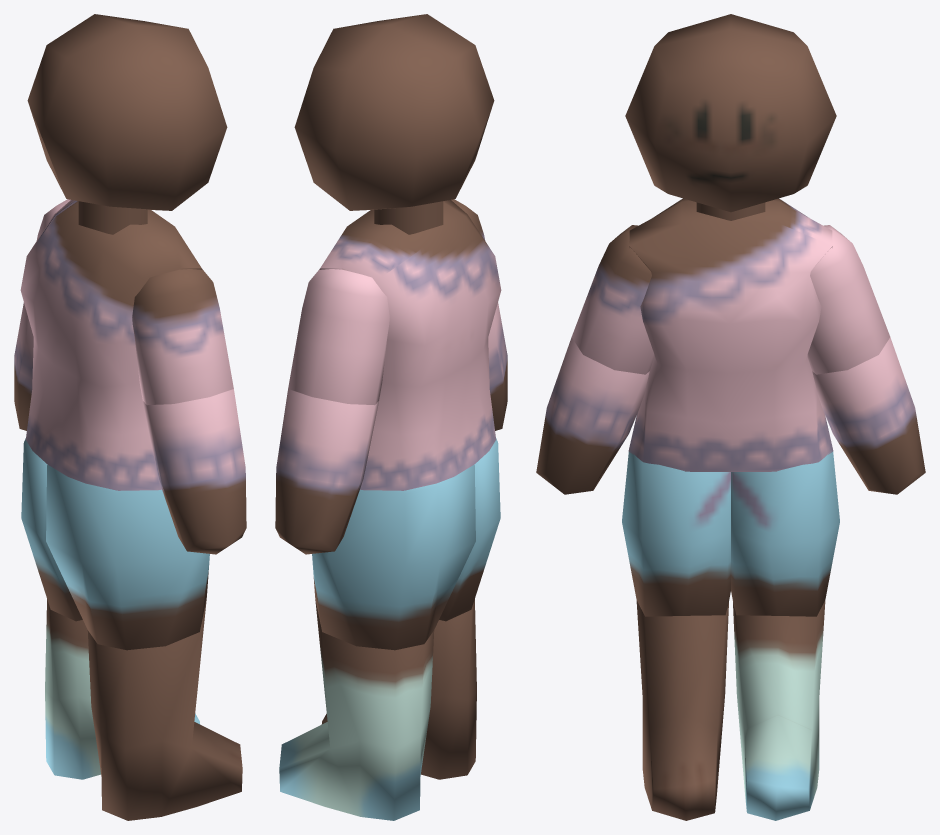
Rendered from TexturePaintingHeadSquashed.fbx.
The picture shows the model from 3 angles, left to right: view 1: azimuth 30°, elevation 25°; view 2: azimuth 150°, elevation 25°; view 3: azimuth 270°, elevation 25°; orthographic projection.
Parts seen in each view (by area): view 1: Head.003, Head.005, Head.008, Head.009, Head.007, Head.006, Head.010, Head.011, Head.001, Head.004; view 2: Head.003, Head.005, Head.011, Head.010, Head.001, Head.002, Head.009, Head.008, Head.007, Head.004; view 3: Head.003, Head.005, Head.009, Head.010, Head.008, Head.011, Head.001, Head.007, Head.002, Head.006.
Boxes of the visible parts, x1,y1,x2,y2 form: Head.003: [20, 200, 202, 490]; Head.005: [27, 14, 227, 210]; Head.008: [46, 465, 209, 650]; Head.009: [87, 599, 242, 820]; Head.007: [143, 389, 246, 554]; Head.006: [132, 269, 233, 405]; Head.010: [45, 599, 200, 779]; Head.011: [21, 438, 82, 621]; Head.001: [14, 302, 33, 430]; Head.004: [78, 201, 147, 234]; Head.003: [319, 200, 501, 490]; Head.005: [294, 14, 494, 210]; Head.011: [312, 465, 475, 650]; Head.010: [279, 599, 434, 820]; Head.001: [275, 389, 378, 554]; Head.002: [288, 269, 389, 405]; Head.009: [321, 599, 476, 779]; Head.008: [439, 438, 500, 621]; Head.007: [488, 302, 507, 430]; Head.004: [374, 201, 443, 234]; Head.003: [628, 198, 833, 471]; Head.005: [625, 14, 836, 212]; Head.009: [636, 600, 728, 820]; Head.010: [733, 600, 825, 820]; Head.008: [622, 451, 730, 616]; Head.011: [731, 451, 839, 616]; Head.001: [812, 337, 925, 494]; Head.007: [536, 337, 649, 494]; Head.002: [807, 225, 890, 374]; Head.006: [571, 225, 654, 374].
Bounding box in the file's own units: 218 × 889 × 418.
Materials: 1 (1 with a texture image).
